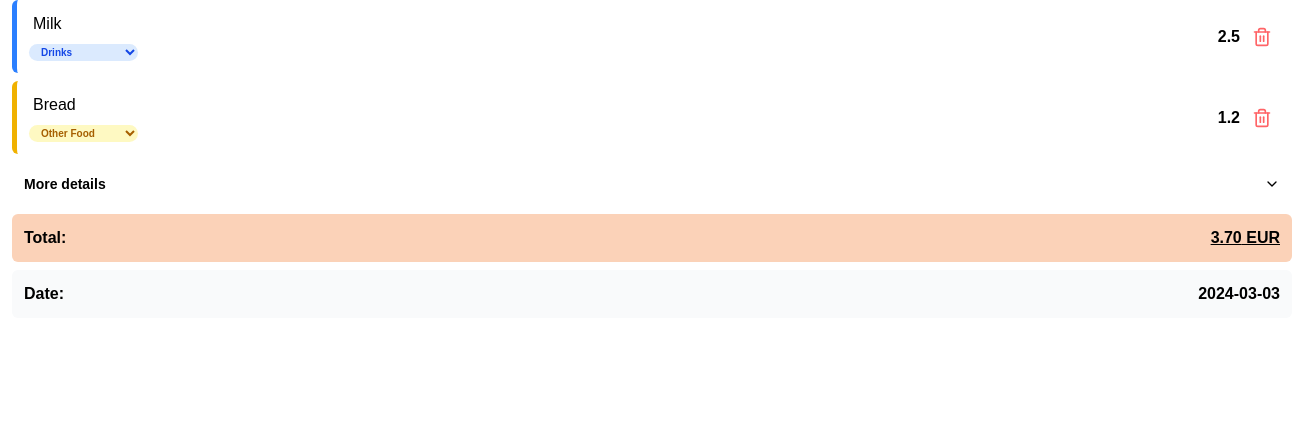
ReceiptEditor › toggles details visibility
Click the button "More details" at (65, 184), box [12,162,1292,206]
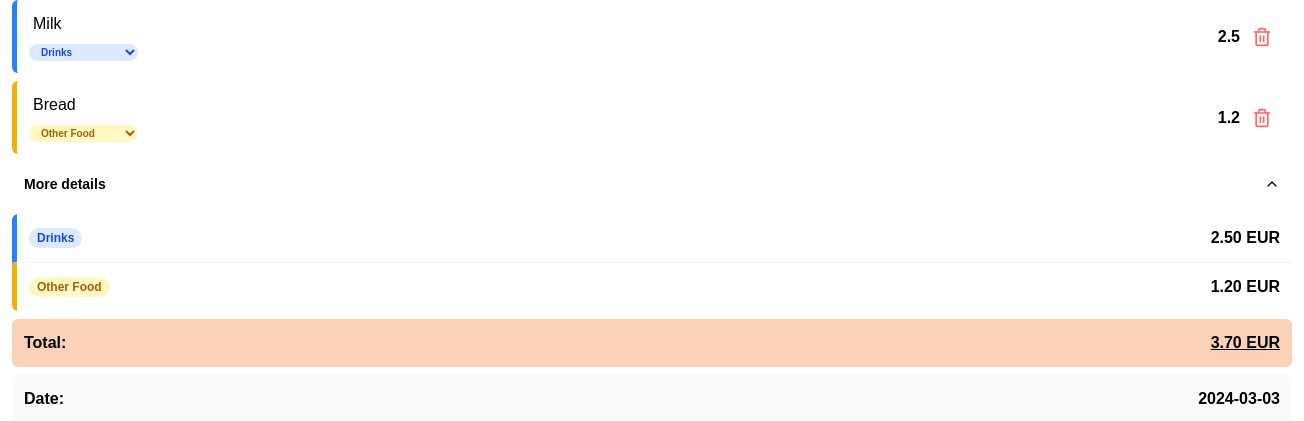
Expected: the text "2.50 EUR" is shown, [1211,226,1280,250]
